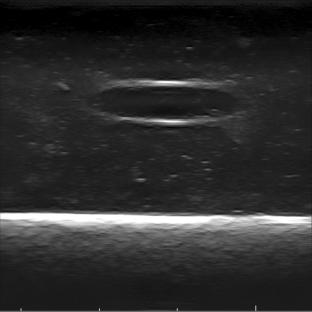vessel: (88, 79, 248, 126)
